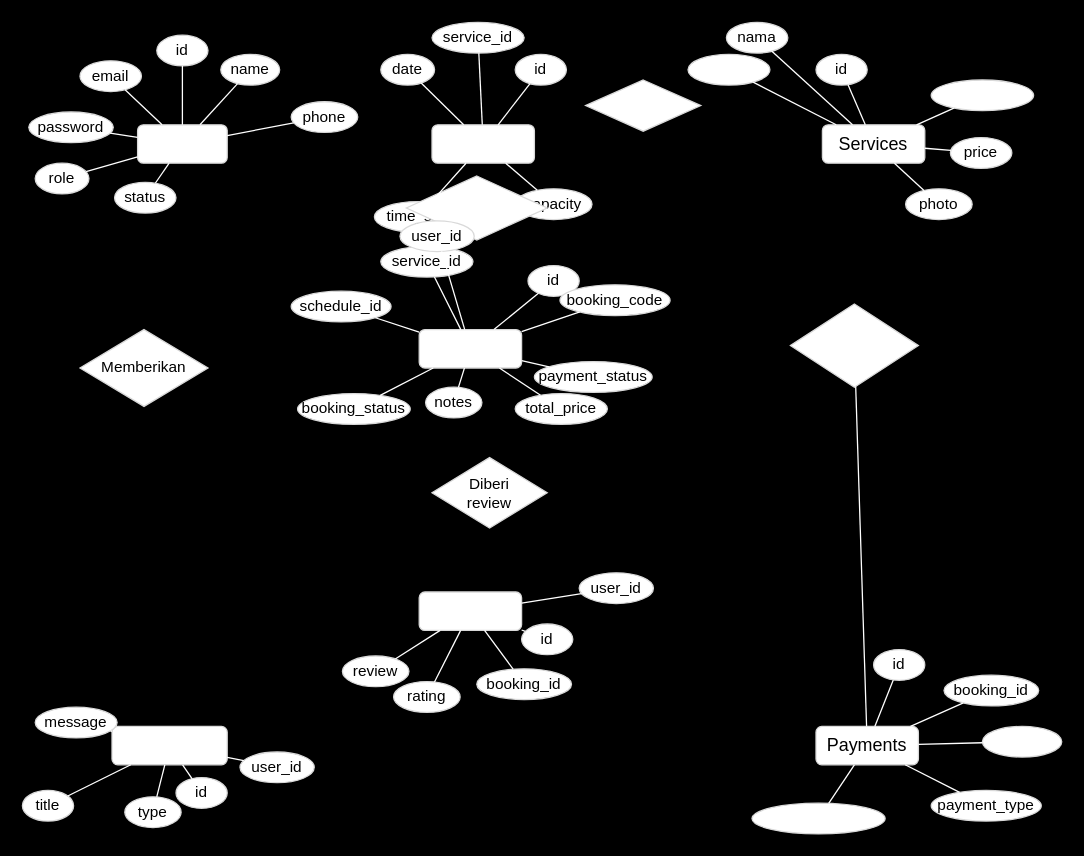
Image size: 1084x856. Some labels were removed from this diagram. Here are the shapes that lost their labels. From the top down, the box of each, then its label:
(687, 53, 770, 85): duration
(584, 79, 701, 131): Memiliki
(930, 79, 1034, 111): description
(136, 124, 227, 163): User
(431, 124, 534, 163): Schedule
(405, 175, 547, 240): Digunakan dalam
(418, 328, 522, 368): Bookings
(789, 303, 918, 387): Termasuk dalam
(418, 591, 522, 630): Reviews
(111, 725, 227, 765): Notification
(981, 725, 1062, 757): order_id
(751, 802, 885, 834): transaction_status
